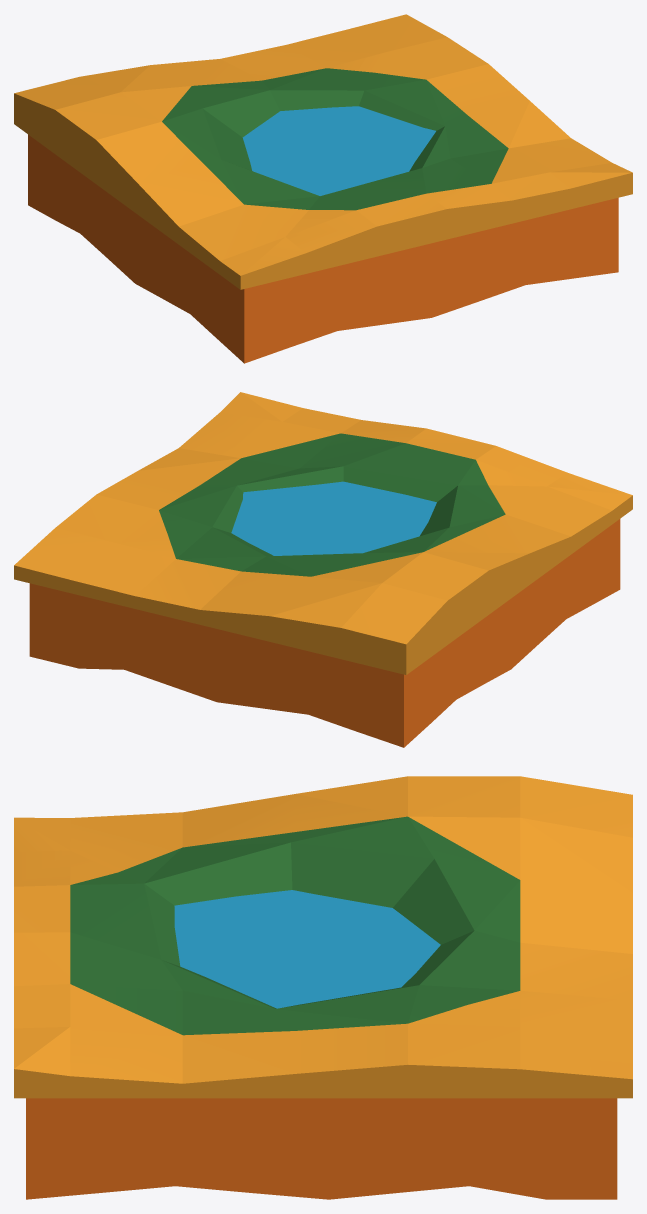
File: terrains_world-oasis.fbx
3 views of the same model, one above another, from view 1: azimuth 30°, elevation 25°; view 2: azimuth 150°, elevation 25°; view 3: azimuth 270°, elevation 25° (orthographic). The views are drawn at different scales.
Visible parts, largest first — view 1: terrains_world_oasis; view 2: terrains_world_oasis; view 3: terrains_world_oasis.
Part boxes in pixels (x1,y1,x2,y2): terrains_world_oasis: (14,14,632,363); terrains_world_oasis: (14,392,632,747); terrains_world_oasis: (14,776,632,1199).
Bounding box in the file's own units: 200 × 61.23 × 200.
